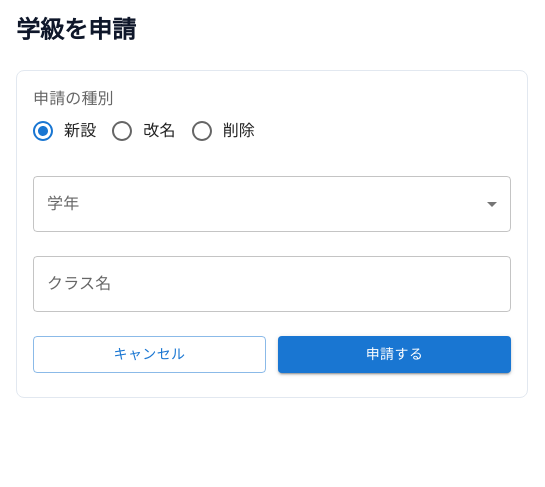
Scenario: teacher/CreateSchoolClassRequest Presenter › 削除を選ぶと、所属者がいるクラスは削除できないことを案内する
This screenshot has width=545, height=487.
Click the radio button labelled "削除" at (222,131), box [190, 119, 255, 143]
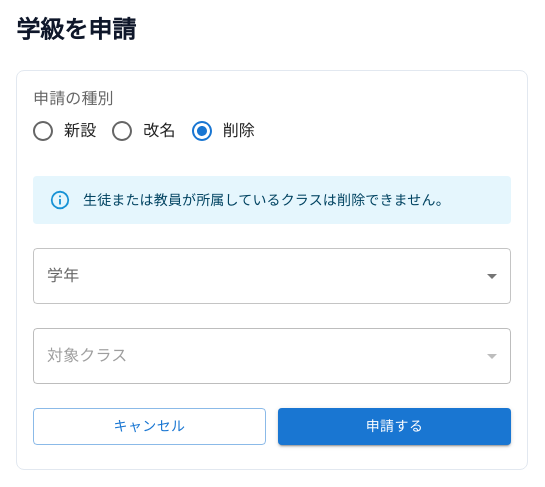
Now the text "生徒または教員が所属しているクラスは削除できません。" is shown, box [83, 192, 450, 208]
